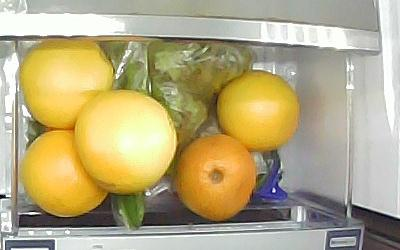grapefruit: (73, 87, 178, 194), (19, 38, 113, 129), (20, 127, 109, 217), (174, 132, 255, 220), (215, 68, 300, 151)
